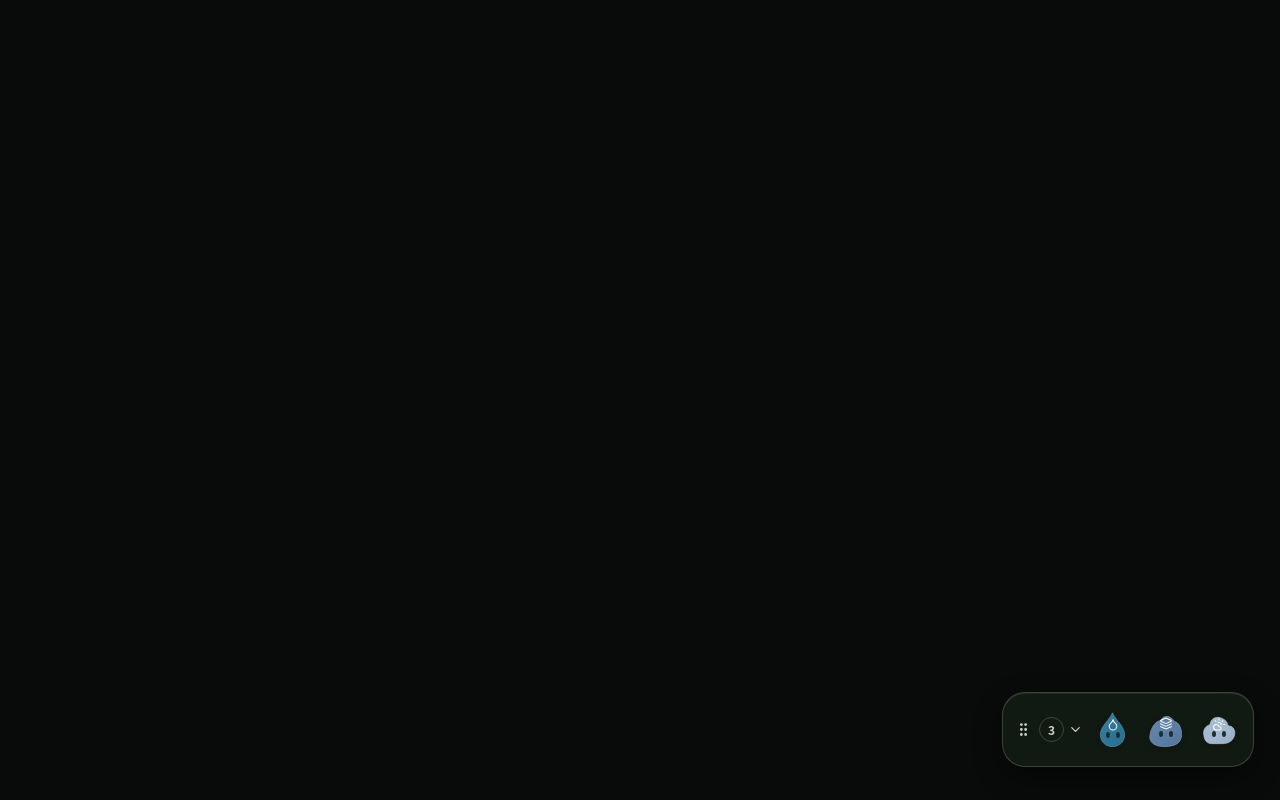
Test: distinguishes a failed refresh from a failed send after the server accepted a message
The width and height of the screenshot is (1280, 800).
Click the button named "Open Water specialist": {"x": 1112, "y": 730} x1=1088 y1=705 x2=1137 y2=754
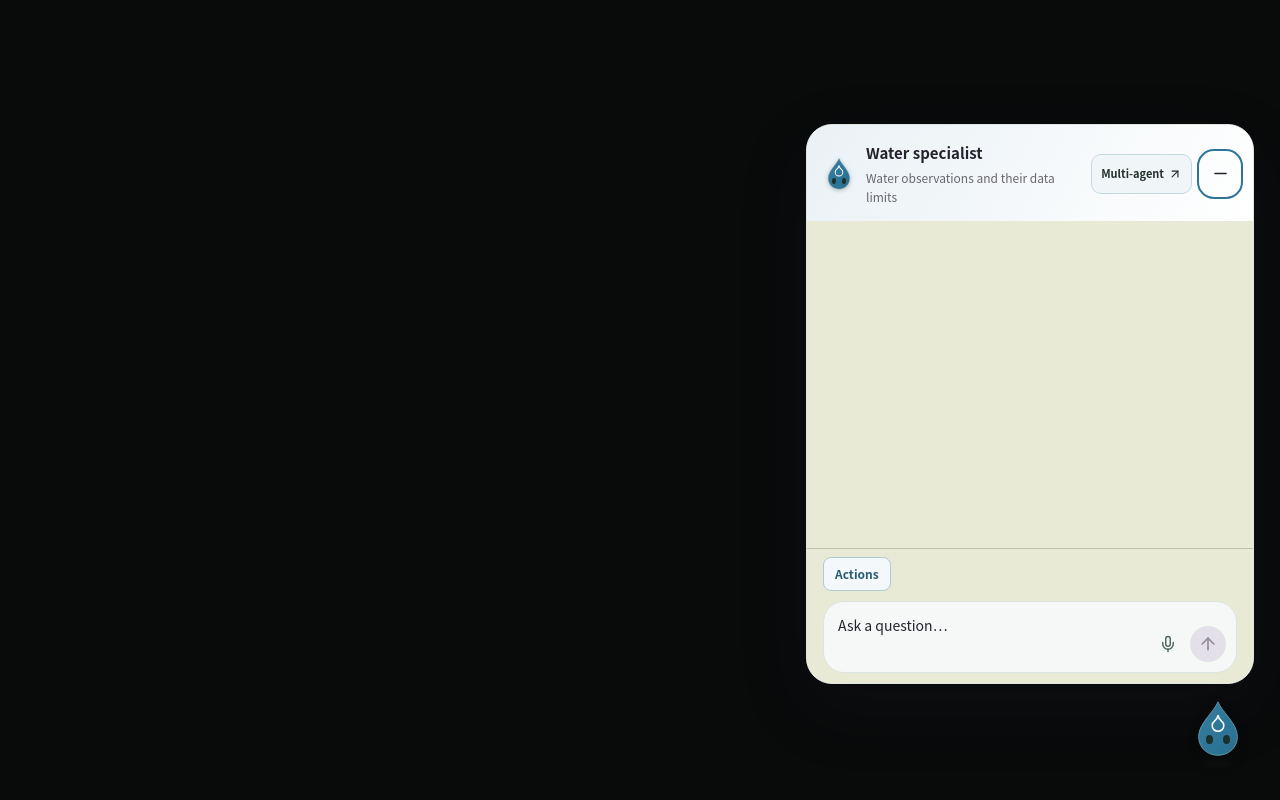
Check: the text box is shown
In the text box: {"x": 990, "y": 638} x1=838 y1=614 x2=1142 y2=662, type "Question"
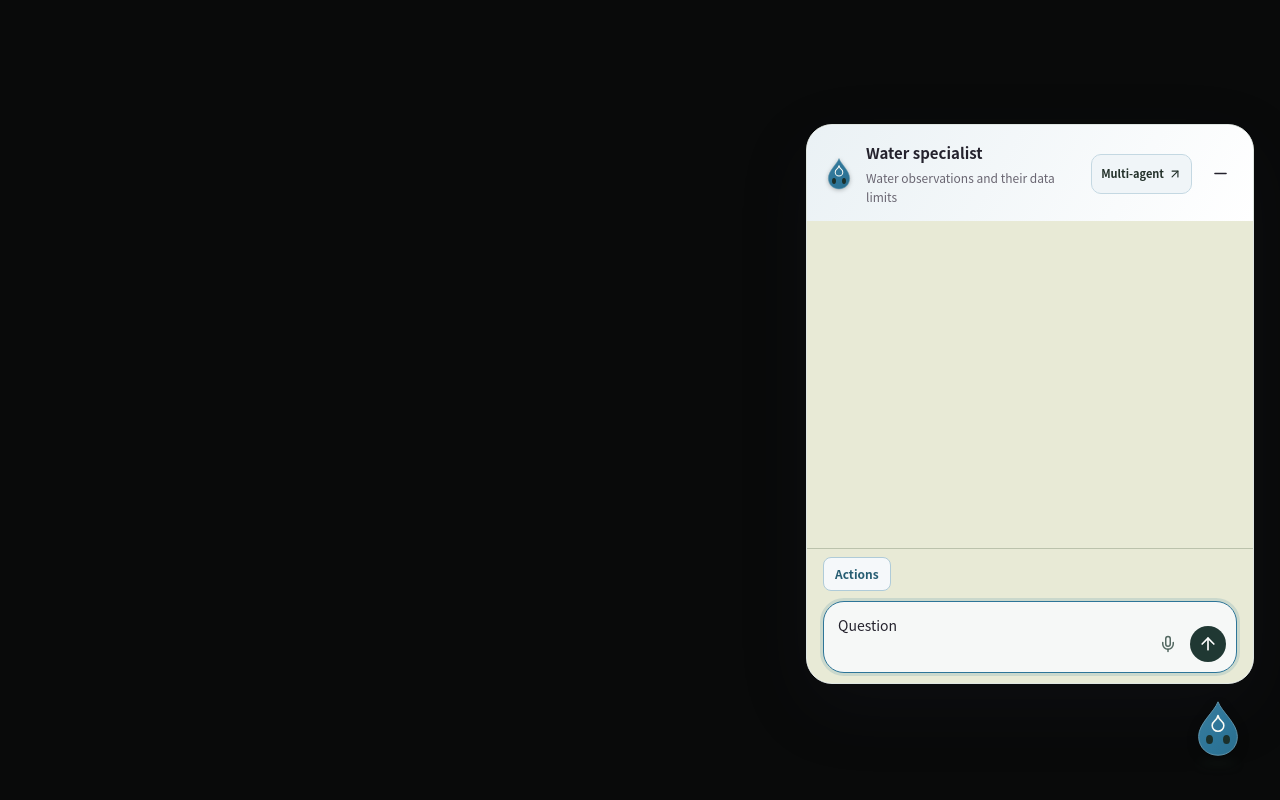
Click the button named "Send message": {"x": 1208, "y": 644} x1=1190 y1=626 x2=1226 y2=662
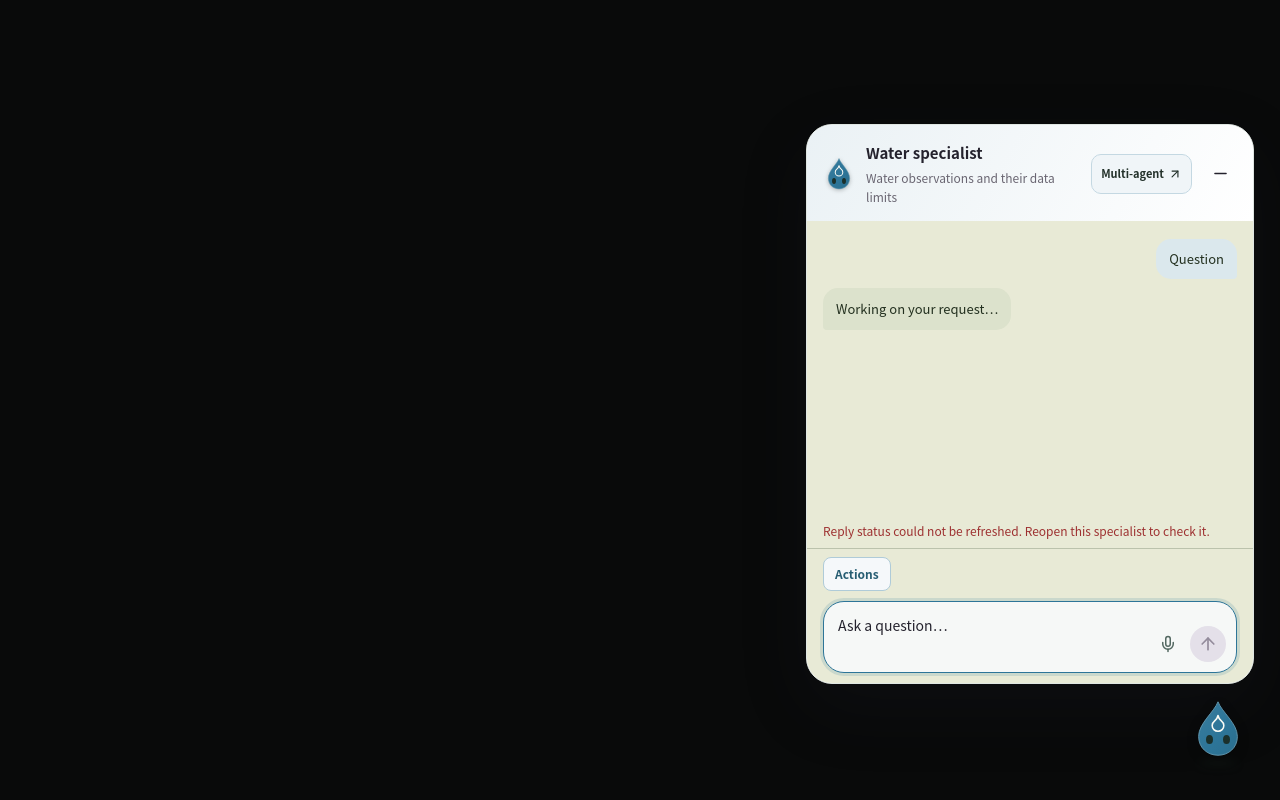
Check: the message "Reply status could not be refreshed. Reopen this specialist to check it." is shown, box x1=823 y1=522 x2=1210 y2=539
Check: the text box is empty, box x1=838 y1=614 x2=1142 y2=662
